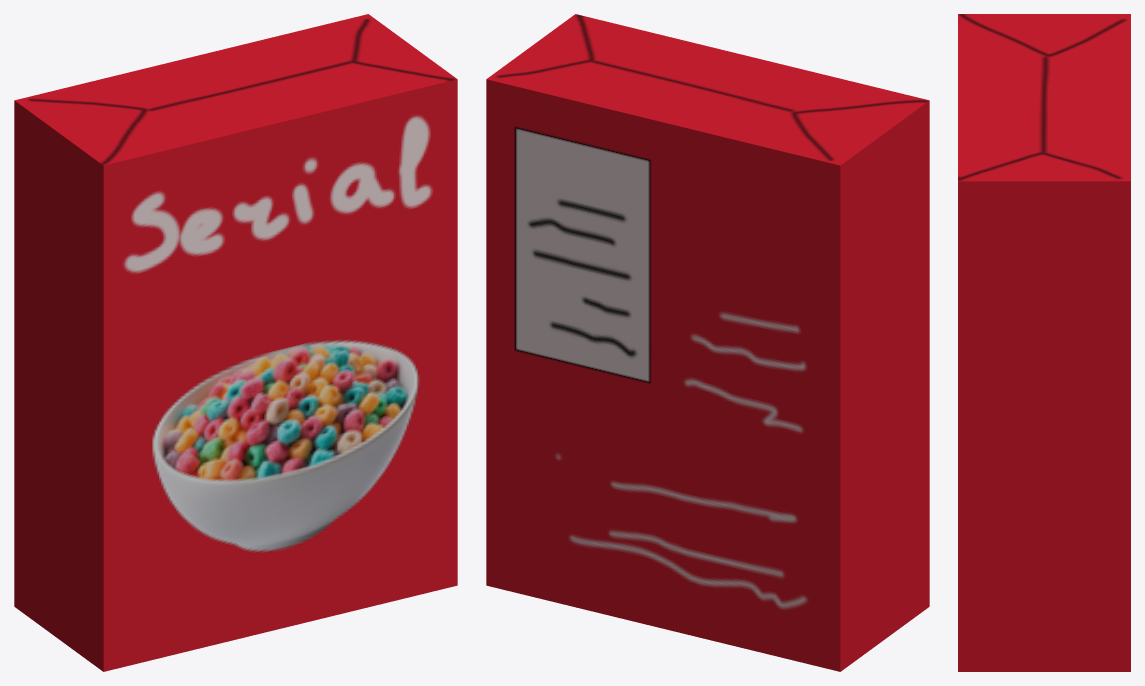
Rendered from box_cereal.fbx.
3 views of the same model, side by side, from view 1: azimuth 30°, elevation 25°; view 2: azimuth 150°, elevation 25°; view 3: azimuth 270°, elevation 25° (orthographic). The views are drawn at different scales.
Visible parts, largest first — view 1: Box; view 2: Box; view 3: Box.
Part boxes in pixels (x1,y1,x2,y2): Box: (14,14,457,671); Box: (486,14,929,671); Box: (958,14,1130,671).
Size of the model in its own units: 18.95 by 25.89 by 8.26.
1 material, 1 textured.
